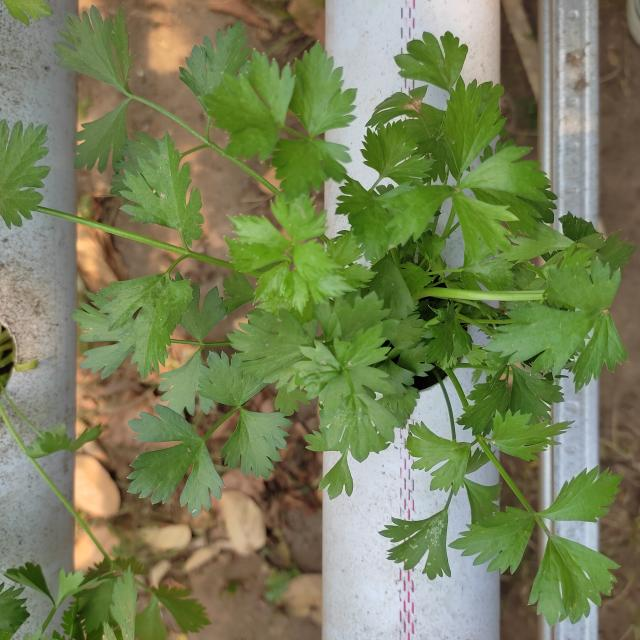Wet Waste: (97, 43, 612, 612)
